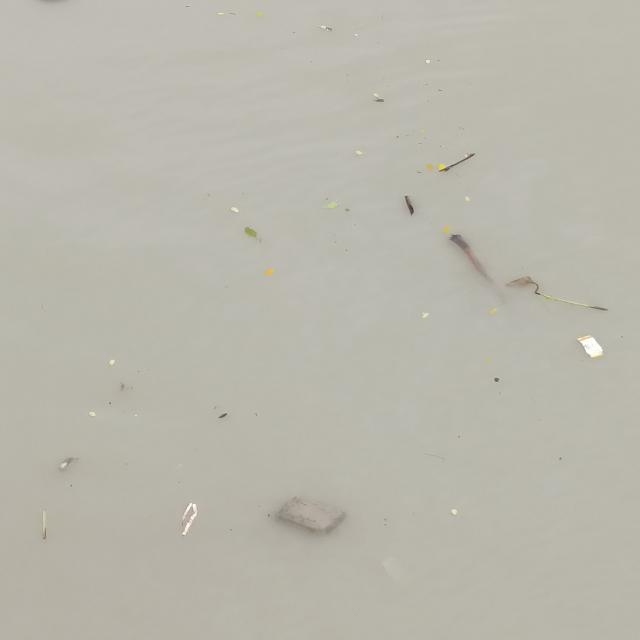Foamed Plastic: (273, 494, 348, 537)
Organic Debris: (503, 274, 611, 313), (445, 232, 493, 288), (438, 153, 476, 173), (40, 508, 49, 540), (403, 194, 415, 216), (243, 225, 258, 239), (323, 201, 339, 209), (449, 508, 459, 516), (107, 358, 116, 366), (264, 268, 274, 275), (218, 412, 228, 419), (372, 98, 386, 103), (421, 312, 430, 319), (442, 225, 451, 232), (437, 163, 445, 170), (371, 92, 380, 98), (354, 150, 364, 155), (426, 163, 433, 170), (492, 376, 500, 382), (324, 27, 332, 33), (317, 24, 326, 29), (489, 308, 496, 314), (483, 357, 490, 363), (216, 12, 226, 16), (256, 11, 262, 17), (352, 33, 360, 37), (465, 196, 470, 202), (436, 88, 443, 92), (344, 208, 350, 212), (254, 412, 258, 417), (419, 130, 424, 134), (70, 483, 73, 489), (229, 13, 238, 15), (213, 406, 217, 410), (419, 142, 423, 146), (184, 6, 192, 8), (290, 32, 298, 34), (417, 171, 422, 174), (424, 83, 429, 86), (108, 402, 112, 404), (396, 136, 400, 138), (458, 127, 462, 129), (426, 100, 430, 102), (325, 198, 328, 200), (424, 137, 427, 139), (462, 128, 465, 130), (437, 59, 440, 61), (440, 146, 442, 148)
Plastic: (178, 500, 200, 538), (577, 335, 605, 359), (59, 455, 74, 471), (231, 207, 239, 213), (88, 412, 97, 417), (425, 59, 431, 64), (134, 414, 138, 417)
